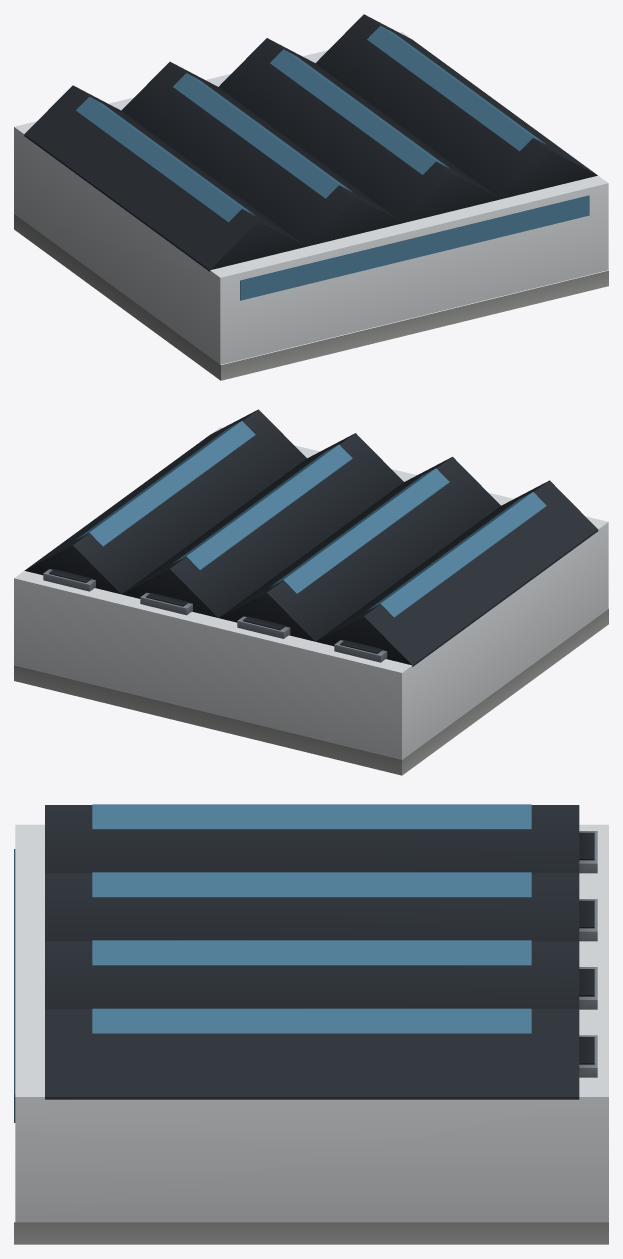
Rendered from conference-hall.glb.
3 views of the same model, one above another, from view 1: azimuth 30°, elevation 25°; view 2: azimuth 150°, elevation 25°; view 3: azimuth 270°, elevation 25° (orthographic). The views are drawn at different scales.
Parts seen in each view (by area): view 1: conference-hall; view 2: conference-hall; view 3: conference-hall.
Boxes of the visible parts, x1,y1,x2,y2 form: conference-hall: (14,14,608,380); conference-hall: (14,409,608,775); conference-hall: (14,804,608,1244).
Bounding box in the file's own units: 78 × 27 × 72.
